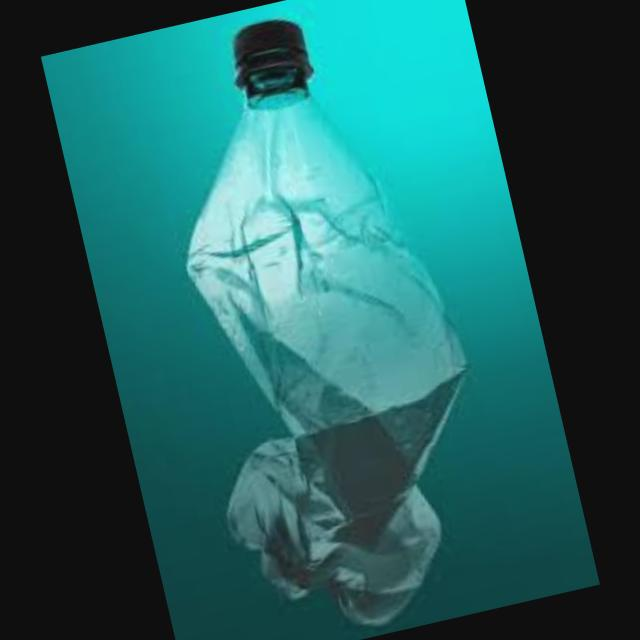trash: (105, 0, 526, 640)
